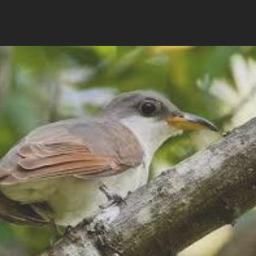Cuckoo: (0, 89, 220, 238)
